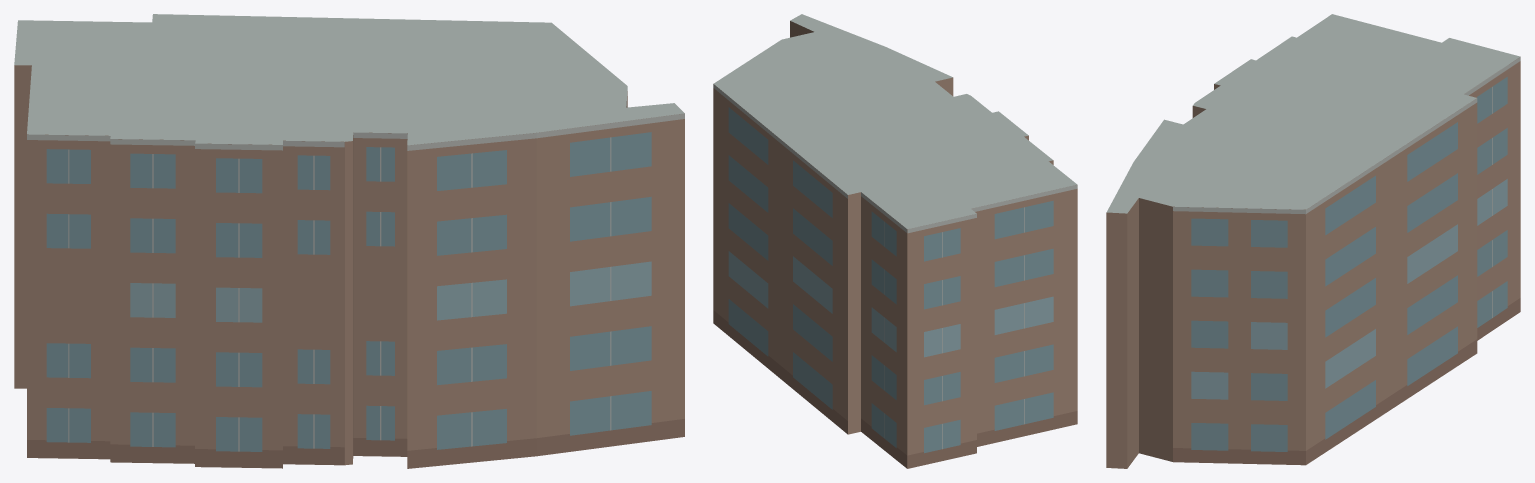
Rendered from survey-upis-33007169.glb.
The picture shows the model from 3 angles, left to right: view 1: azimuth 30°, elevation 25°; view 2: azimuth 150°, elevation 25°; view 3: azimuth 270°, elevation 25°; orthographic projection. The views are drawn at different scales.
Parts seen in each view (by area): view 1: survey-upis-33007169.tmp; view 2: survey-upis-33007169.tmp; view 3: survey-upis-33007169.tmp.
Part boxes in pixels (x1=…): survey-upis-33007169.tmp: x1=14, y1=14, x2=684, y2=468; survey-upis-33007169.tmp: x1=713, y1=14, x2=1077, y2=468; survey-upis-33007169.tmp: x1=1106, y1=14, x2=1520, y2=468.
Bounding box in the file's own units: 23.88 × 14.25 × 20.95.
